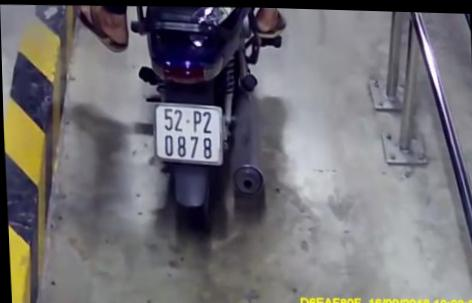LP: (150, 99, 224, 166)
